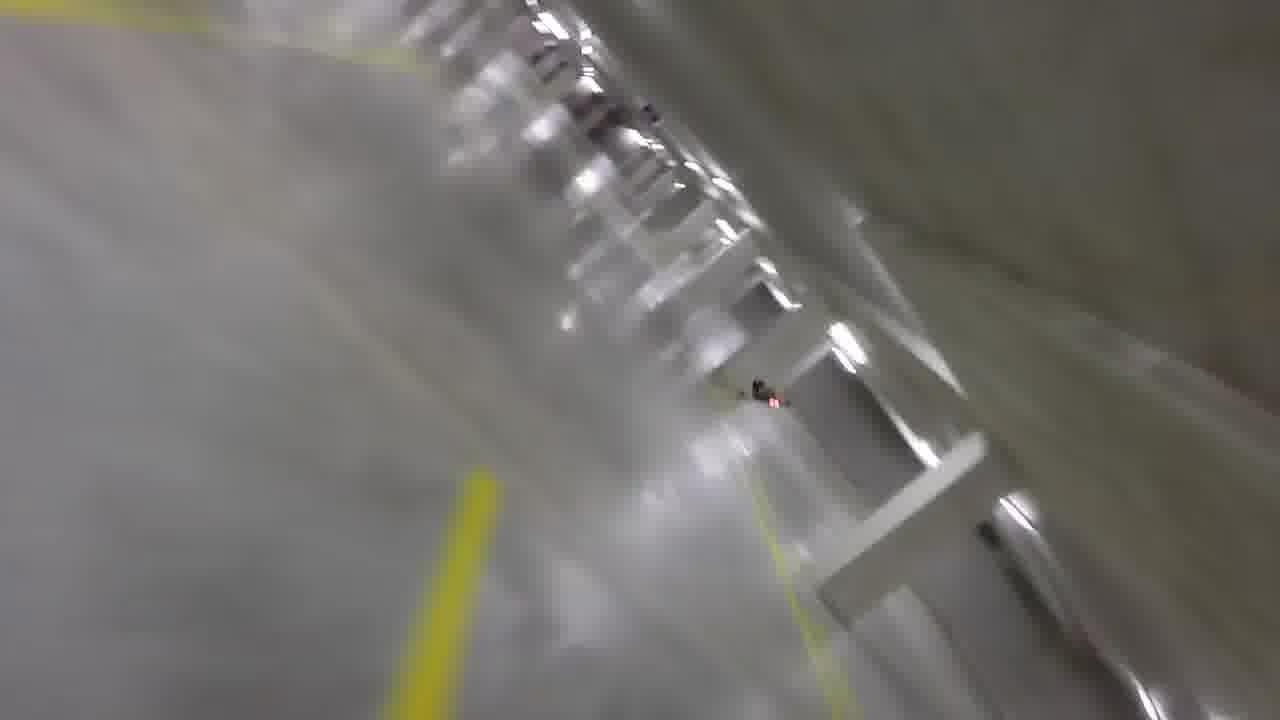drone: (735, 361, 790, 417)
